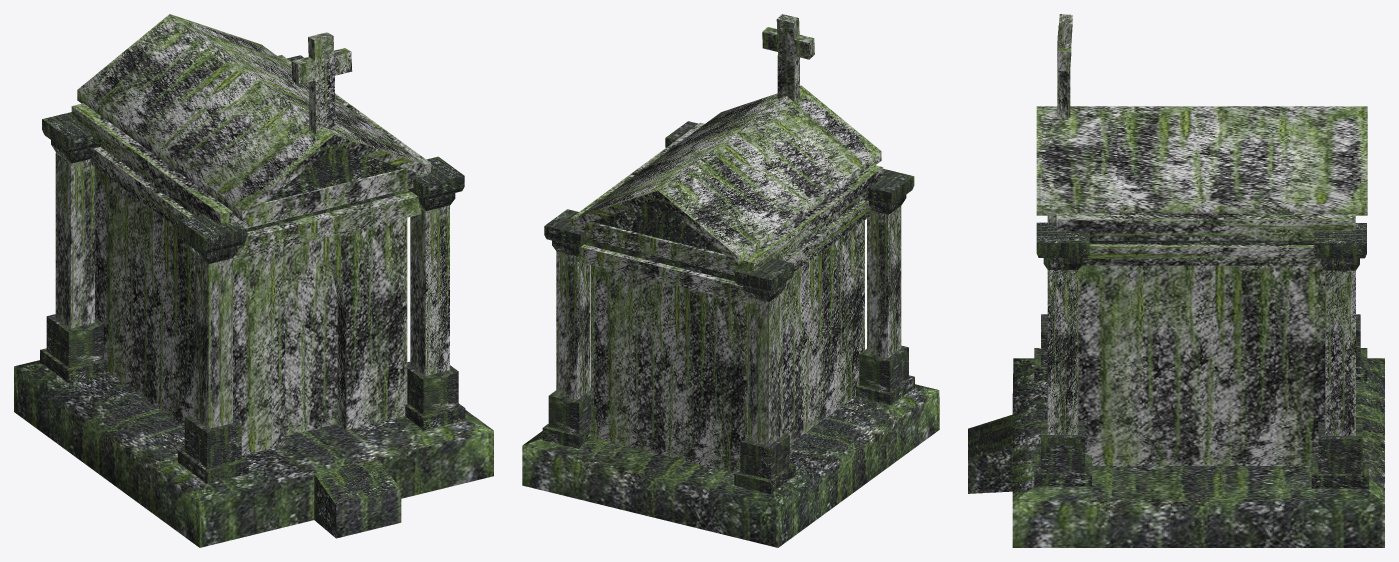
The model's file is crypt1.fbx.
The picture shows the model from 3 angles, left to right: view 1: azimuth 30°, elevation 25°; view 2: azimuth 150°, elevation 25°; view 3: azimuth 270°, elevation 25°; orthographic projection. The views are drawn at different scales.
Visible parts, largest first — view 1: crypt_room, Base1, CryptBW:Roof_6, CryptBW:Roof_7, CryptBW:Roof_1, CryptBW:Pillar_05.001, CryptBW:Pillar_05.002, CryptBW:Pillar_05, Cross, CryptBW:Roof_4, CryptBW:Pillar_01_BottemA1.002, CryptBW:Pillar_01_BottemA1.001 (+8 smaller); view 2: crypt_room, Base1, CryptBW:Roof_6, CryptBW:Roof_7, CryptBW:Pillar_05.002, CryptBW:Pillar_05.001, CryptBW:Roof_1, CryptBW:Pillar_05.003, CryptBW:Roof_5, Cross, CryptBW:Pillar_01_BottemA1.002, CryptBW:Pillar_01_BottemA1.001 (+8 smaller); view 3: crypt_room, Base1, CryptBW:Roof_6, CryptBW:Roof_7, CryptBW:Pillar_05, CryptBW:Pillar_05.003, CryptBW:Roof_1, CryptBW:Pillar_01_BottemA1.003, CryptBW:Pillar_01_BottemA1, CryptBW:Pillar_01_topA1, CryptBW:Pillar_01_topA1.003, Cross (+3 smaller).
Part boxes in pixels (box(x1,y1,x2,y2)): crypt_room: box(95, 168, 407, 455); Base1: box(14, 360, 493, 547); CryptBW:Roof_6: box(77, 14, 426, 220); CryptBW:Roof_7: box(71, 55, 430, 228); CryptBW:Roof_1: box(91, 147, 423, 259); CryptBW:Pillar_05.001: box(193, 254, 232, 428); CryptBW:Pillar_05.002: box(55, 152, 94, 328); CryptBW:Pillar_05: box(410, 205, 449, 375); Cross: box(291, 32, 352, 133); CryptBW:Roof_4: box(266, 145, 403, 201); CryptBW:Pillar_01_BottemA1.002: box(46, 314, 103, 367); CryptBW:Pillar_01_BottemA1.001: box(184, 414, 241, 467); crypt_room: box(591, 220, 864, 472); Base1: box(522, 384, 939, 547); CryptBW:Roof_6: box(577, 85, 881, 265); CryptBW:Roof_7: box(570, 122, 883, 275); CryptBW:Pillar_05.002: box(748, 293, 782, 445); CryptBW:Pillar_05.001: box(867, 206, 901, 357); CryptBW:Roof_1: box(577, 200, 870, 303); CryptBW:Pillar_05.003: box(556, 251, 590, 399); CryptBW:Roof_5: box(592, 200, 723, 253); Cross: box(762, 14, 814, 101); CryptBW:Pillar_01_BottemA1.002: box(740, 433, 789, 479); CryptBW:Pillar_01_BottemA1.001: box(859, 345, 908, 391); crypt_room: box(1078, 265, 1325, 465); Base1: box(968, 358, 1384, 547); CryptBW:Roof_6: box(1036, 106, 1367, 215); CryptBW:Roof_7: box(1056, 213, 1355, 240); CryptBW:Pillar_05: box(1047, 270, 1078, 434); CryptBW:Pillar_05.003: box(1325, 270, 1355, 435); CryptBW:Roof_1: box(1081, 244, 1321, 265); CryptBW:Pillar_01_BottemA1.003: box(1318, 421, 1362, 473); CryptBW:Pillar_01_BottemA1: box(1041, 420, 1085, 472); CryptBW:Pillar_01_topA1: box(1036, 222, 1089, 257); CryptBW:Pillar_01_topA1.003: box(1314, 223, 1366, 258); Cross: box(1057, 14, 1072, 117).
Size of the model in its own units: 1181 by 1760 by 1446.
Materials: 1 (1 with a texture image).
